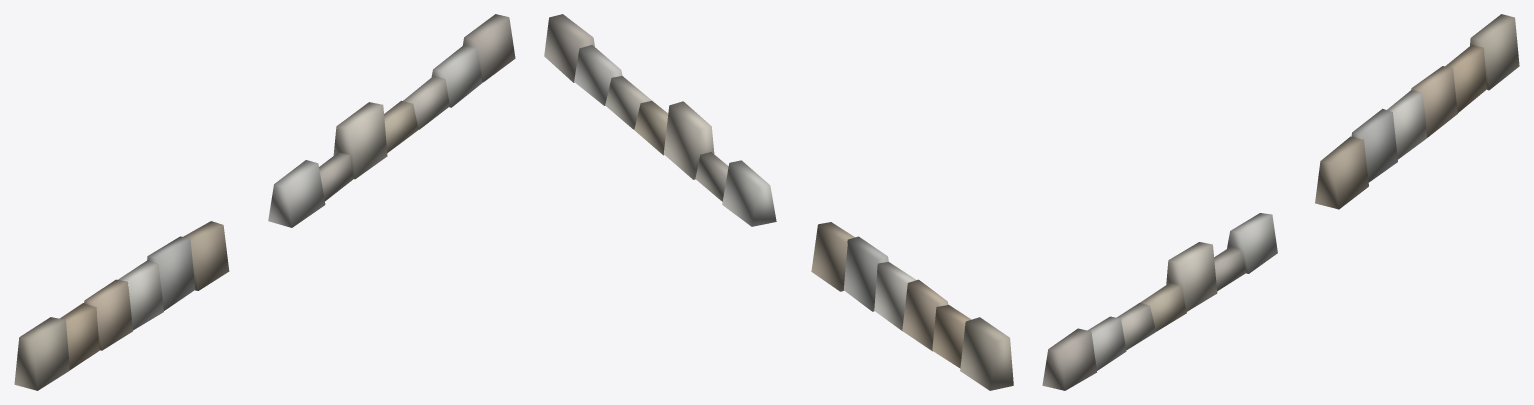
File: farm_9_22_far.glb
3 views of the same model, side by side, from view 1: azimuth 90°, elevation 25°; view 2: azimuth 150°, elevation 25°; view 3: azimuth 270°, elevation 25° (orthographic). The views are drawn at different scales.
Visible parts, largest first — view 1: geometry_0; view 2: geometry_0; view 3: geometry_0.
Boxes of the visible parts, x1,y1,x2,y2 form: geometry_0: (14,14,515,390); geometry_0: (544,14,1013,390); geometry_0: (1042,14,1519,390).
Bounding box in the file's own units: 20.55 × 1.85 × 12.67.
